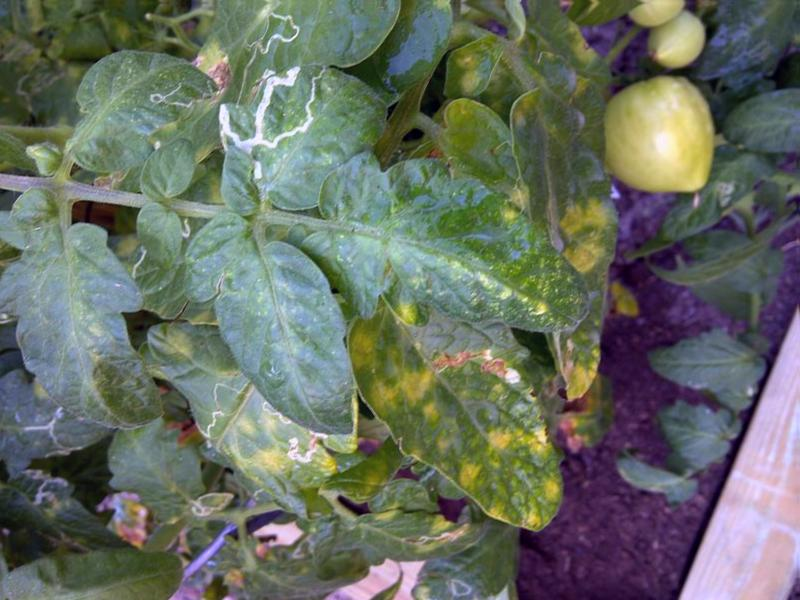Tomato mold leaf: (300, 146, 607, 332), (352, 282, 576, 534), (2, 199, 185, 457), (196, 227, 371, 440), (61, 38, 229, 180)
